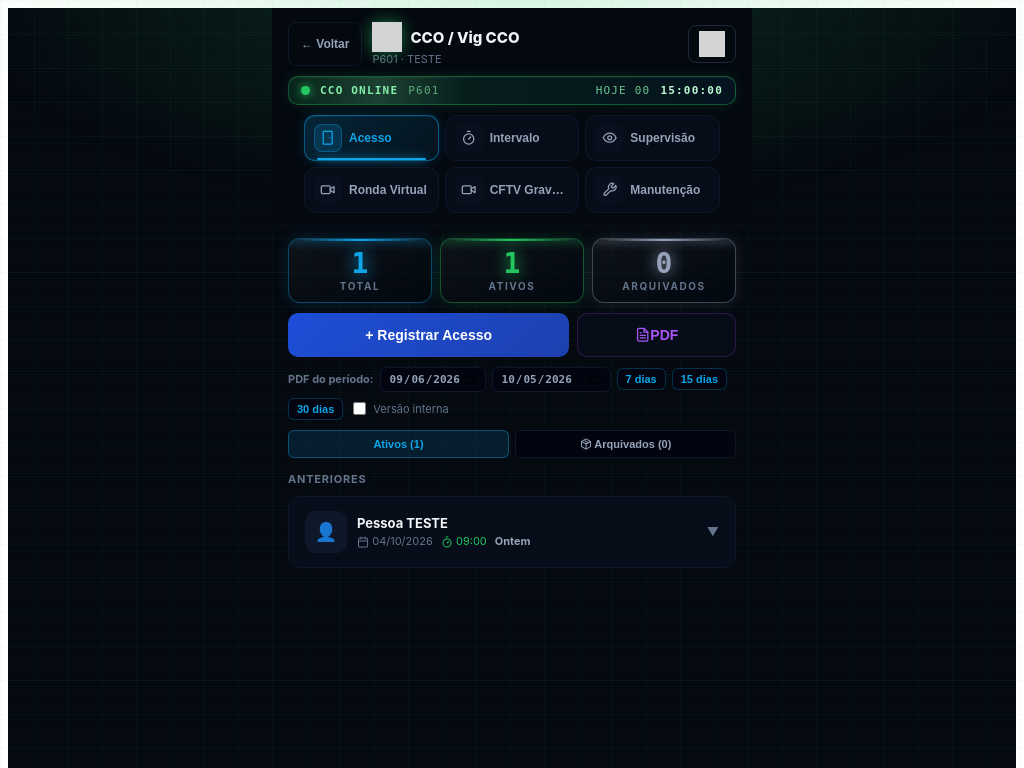
Scenario: erro de exportação é visível e permite nova tentativa
The image size is (1024, 768).
Click the button "PDF". click: (657, 335)
box: [577,313,736,357]
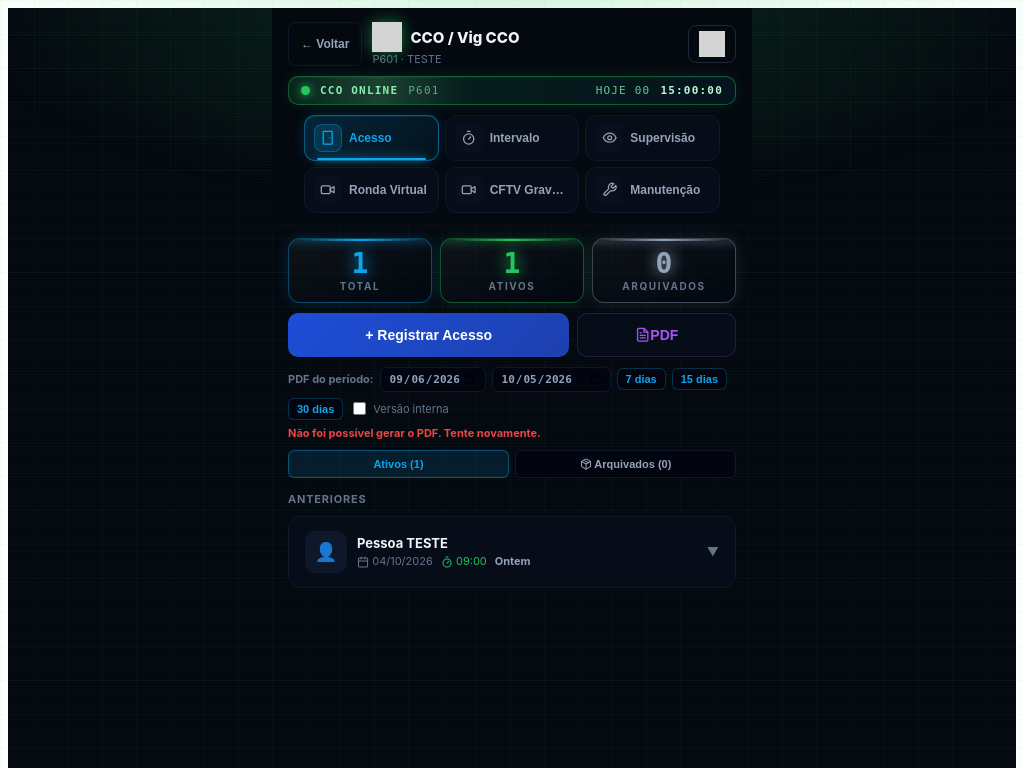
Expected: the message "Não foi possível gerar o PDF. Tente novamente." is shown, [288,426,541,440]
Click the button "PDF". click: (657, 335)
box: [577,313,736,357]
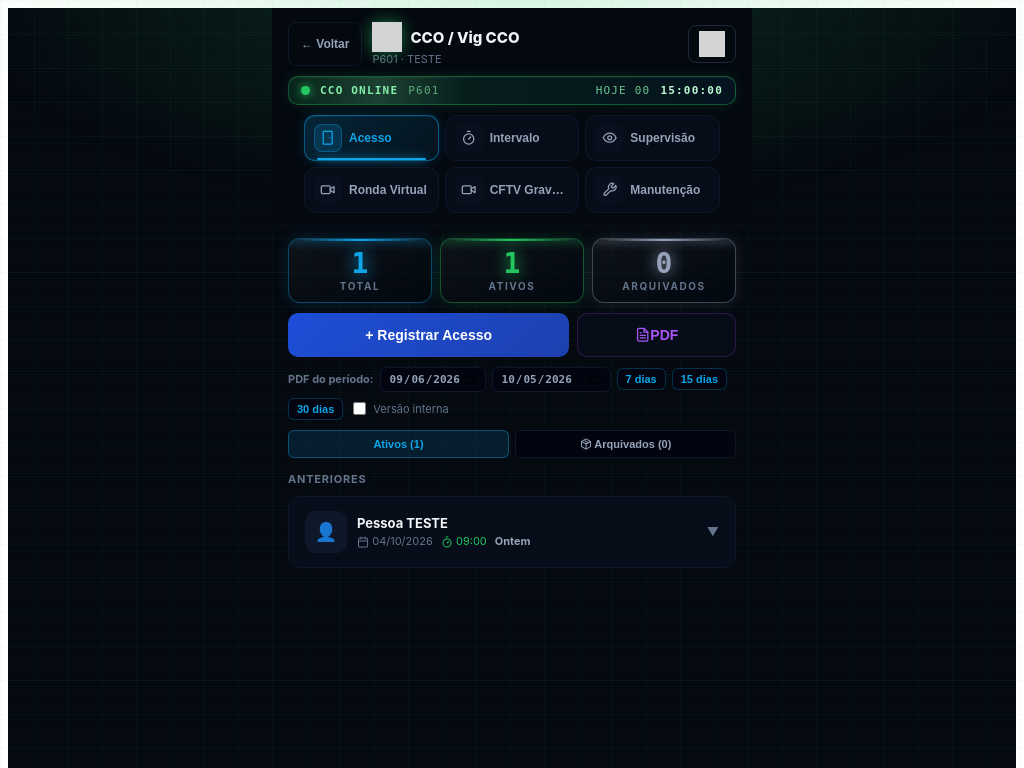
Expected: the message "Não foi possível gerar o PDF. Tente novamente." is gone
